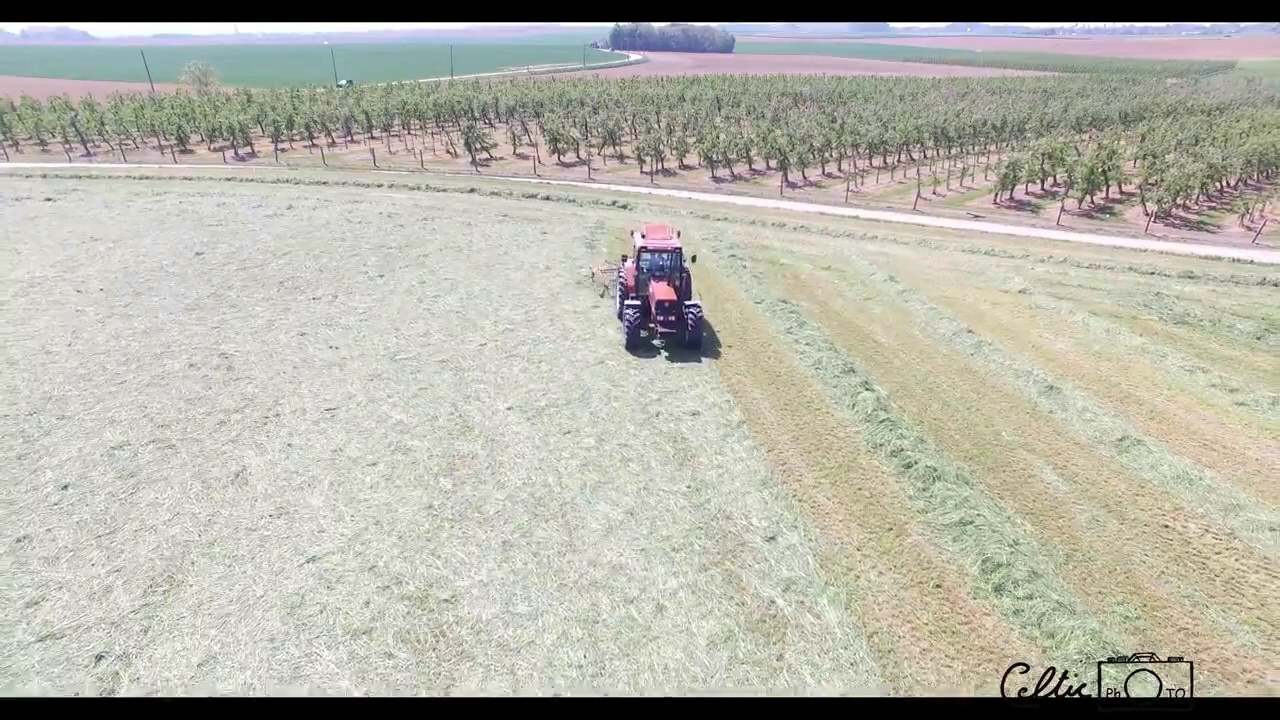traktor: (611, 221, 715, 360)
